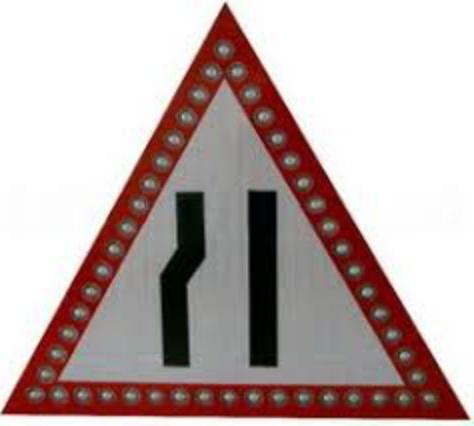narrow_road: (7, 1, 467, 425)
